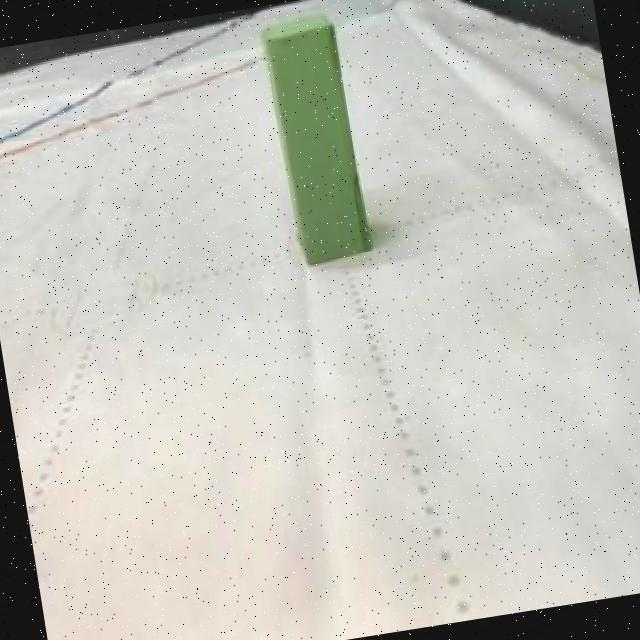greenbox: (251, 2, 378, 275)
